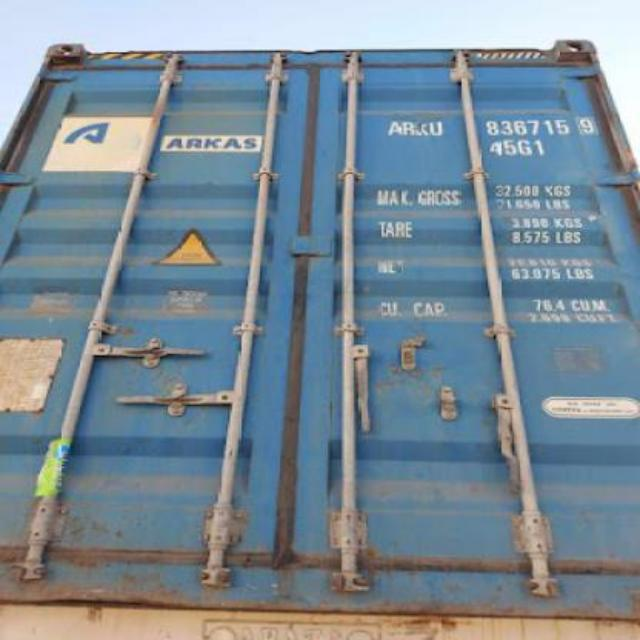1: (542, 117, 556, 137)
3: (498, 115, 512, 138)
5: (554, 117, 572, 137)
6: (514, 120, 528, 136)
7: (528, 119, 540, 137)
8: (482, 118, 500, 140)
9: (576, 117, 596, 137)
A: (384, 120, 402, 138)
K: (414, 120, 430, 138)
R: (402, 120, 414, 136)
U: (428, 118, 444, 138)
